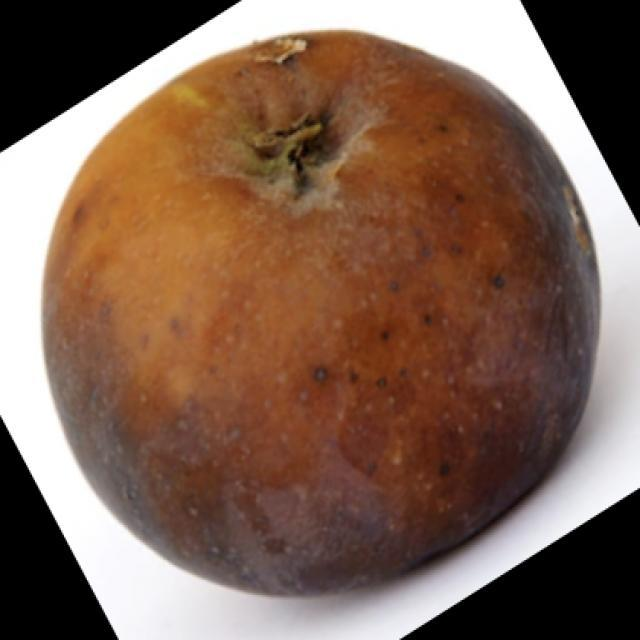Rotten: (43, 41, 600, 586)
